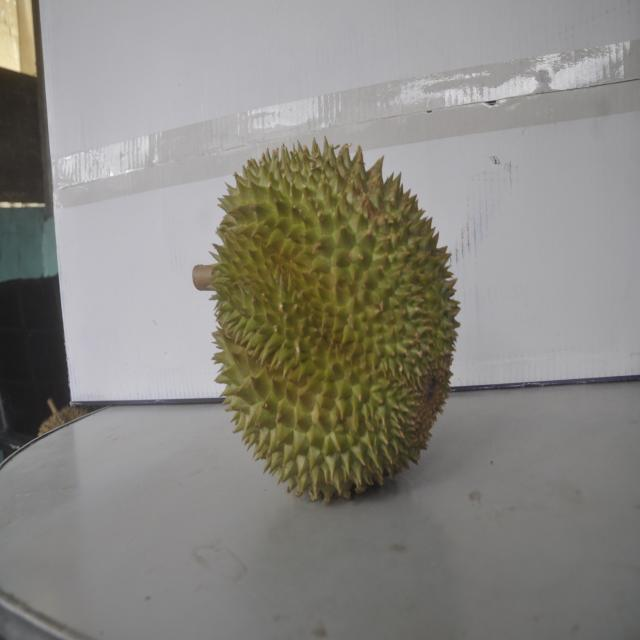mature: (197, 134, 448, 503)
